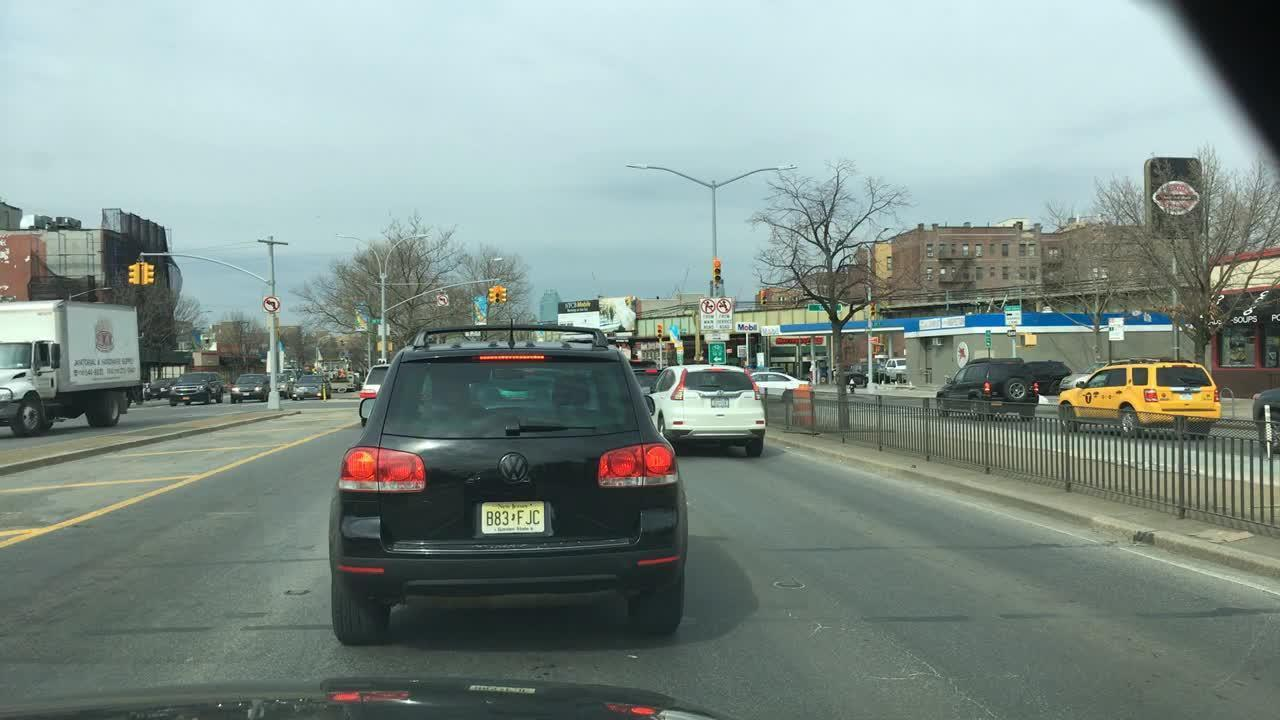Volkswagen: (495, 442, 535, 487)
